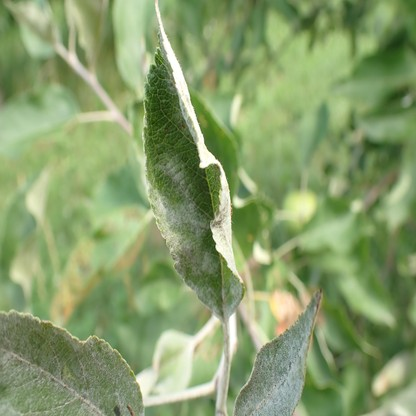powdery_mildew: (143, 2, 245, 321), (1, 310, 145, 416), (234, 289, 322, 416)
